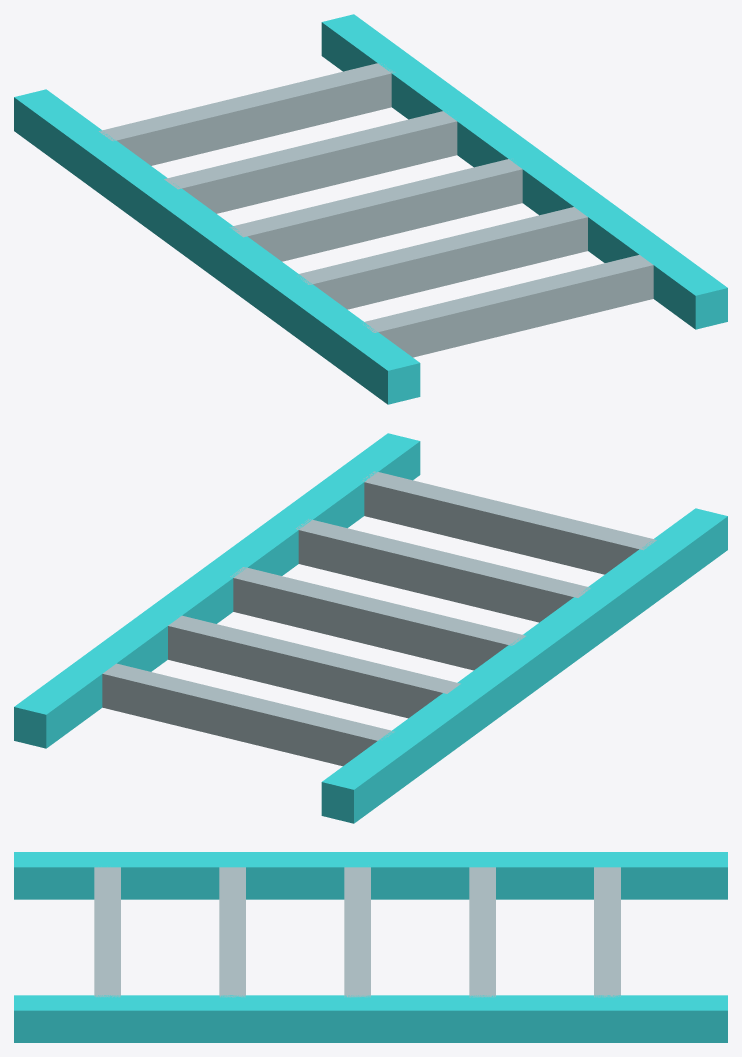
Rendered from access-ladder.glb.
The picture shows the model from 3 angles, top to bottom: view 1: azimuth 30°, elevation 25°; view 2: azimuth 150°, elevation 25°; view 3: azimuth 270°, elevation 25°; orthographic projection. The views are drawn at different scales.
Visible parts, largest first — view 1: world; view 2: world; view 3: world.
Boxes of the visible parts, box(x1,y1,x2,y2) form: world: box(14, 14, 727, 404); world: box(14, 433, 727, 823); world: box(14, 852, 727, 1042).
Size of the model in its own units: 0.84 by 0.08 by 1.6.
